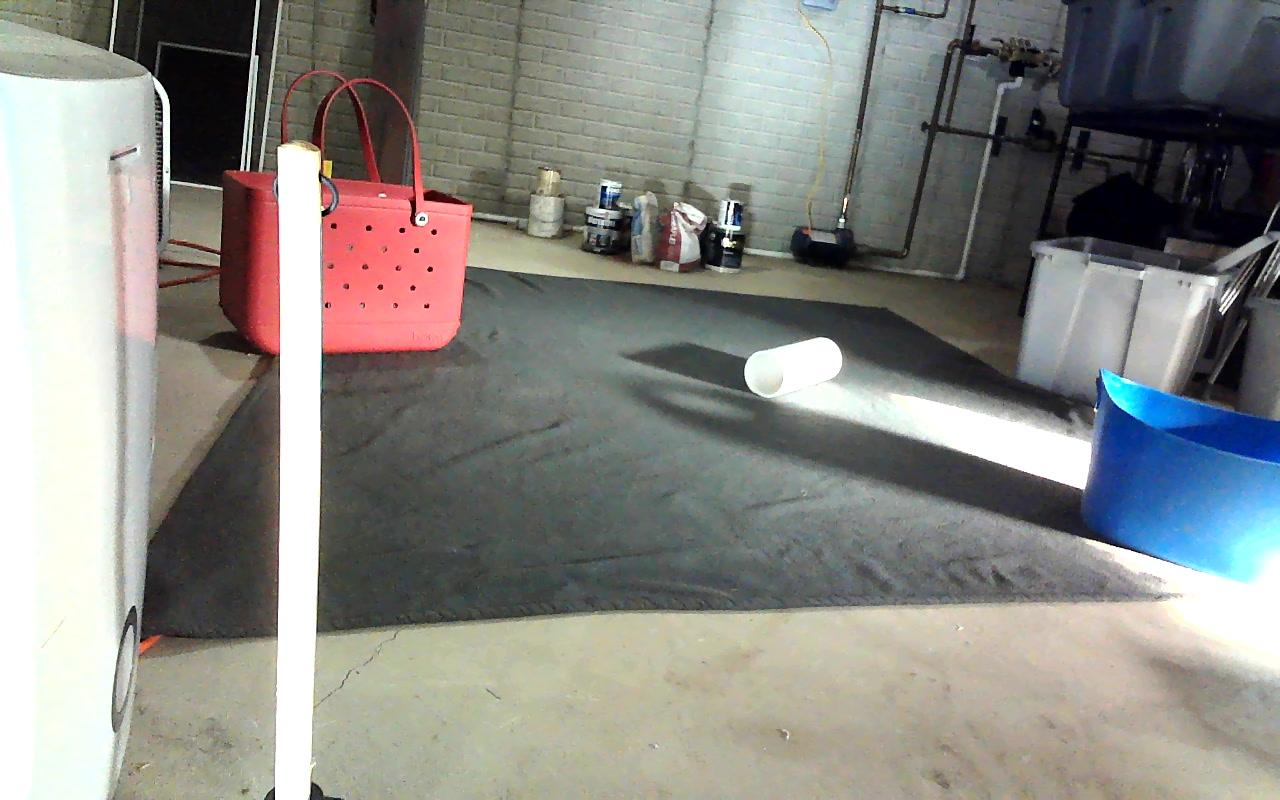coral: (744, 339, 840, 397)
